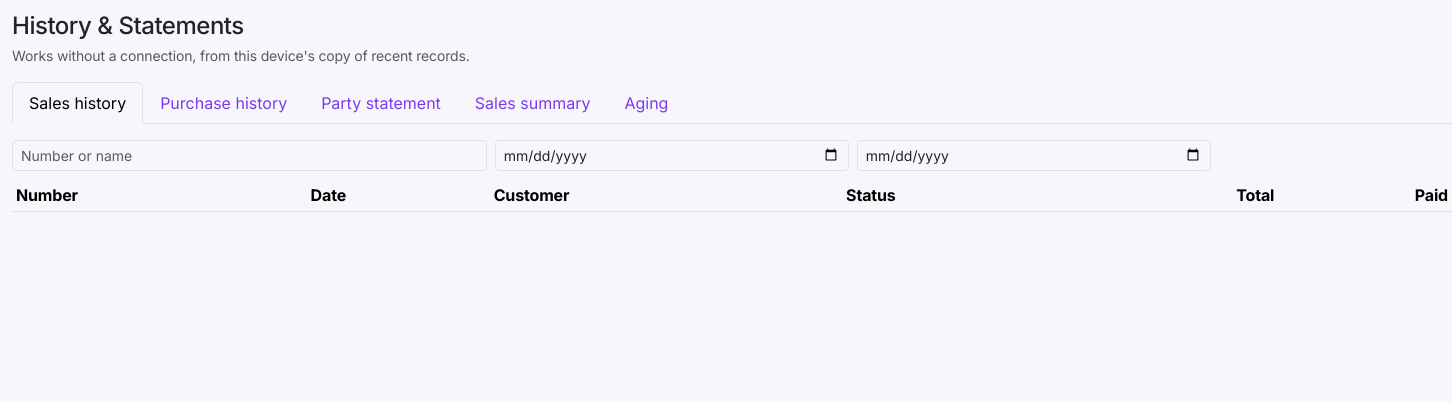
History & Statements (offline) › the summary separates what the server accepted from what is still on this terminal
Click the tab "Sales summary". click: point(533, 103)
box: left=458, top=82, right=607, bottom=124
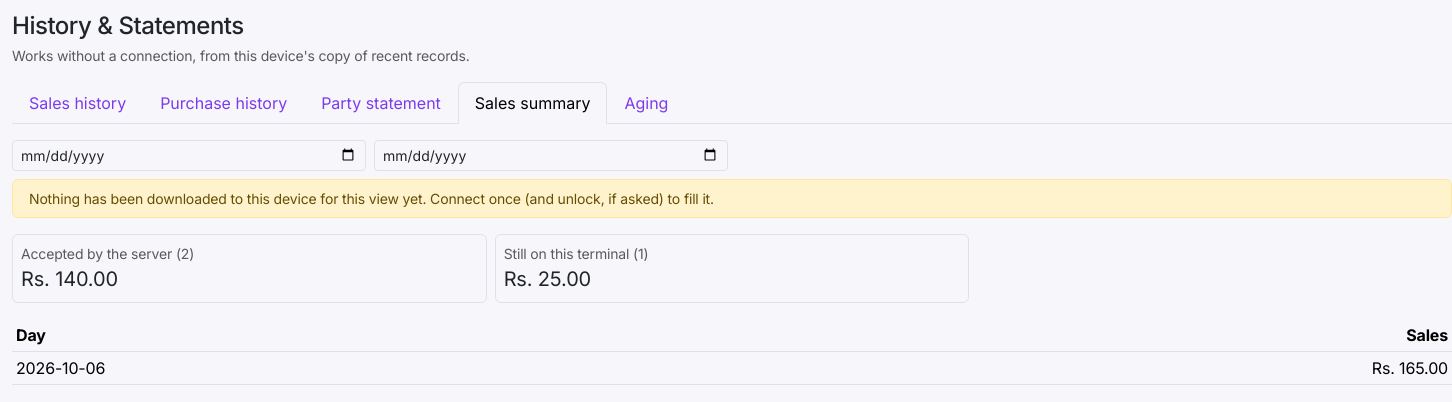
expect the text "Accepted by the server (2)" is shown: met, box left=21, top=245, right=194, bottom=262
expect the element with test id "summary" shows "Still on this terminal (1)": met, box left=12, top=179, right=1451, bottom=385
